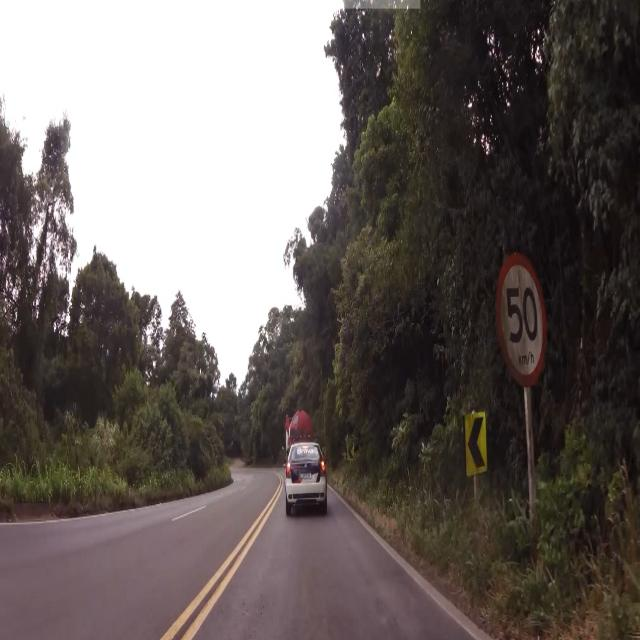R-19: (494, 249, 550, 393)
